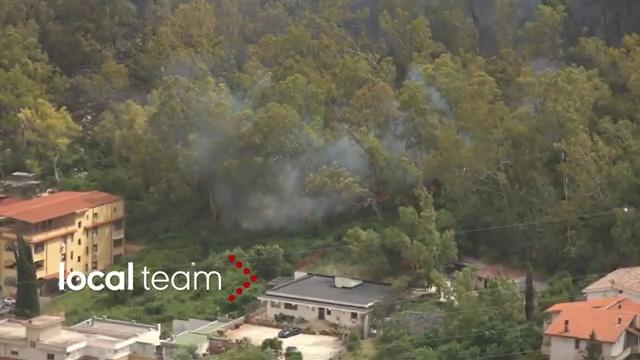smoke: (233, 176, 298, 220)
